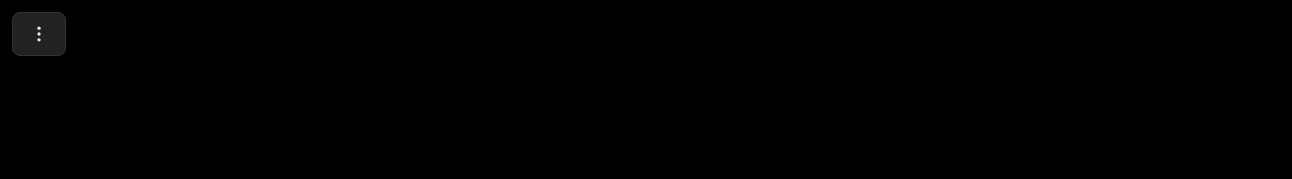
Test: ToolbarMenu › pressing outside closes the menu
The image size is (1292, 179).
Click the button named "More" at (39, 34), box [12,12,66,56]
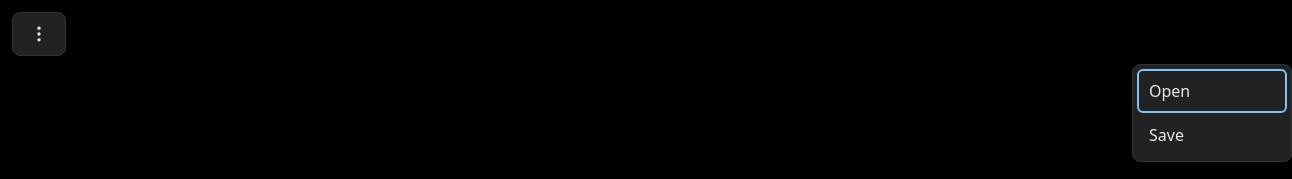
Press the mouse on the element showing "Open Save" at (652, 36), box [12,12,1291,60]
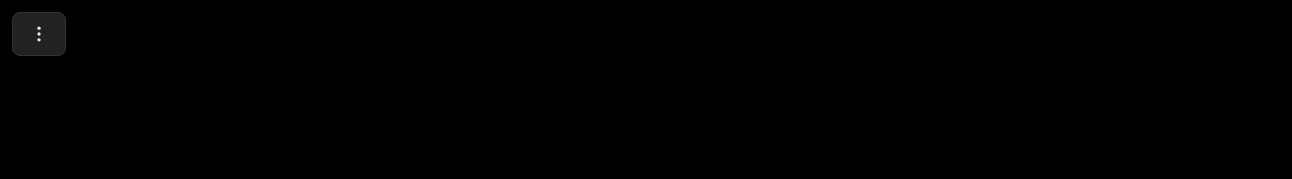
Expected: the menu is gone
